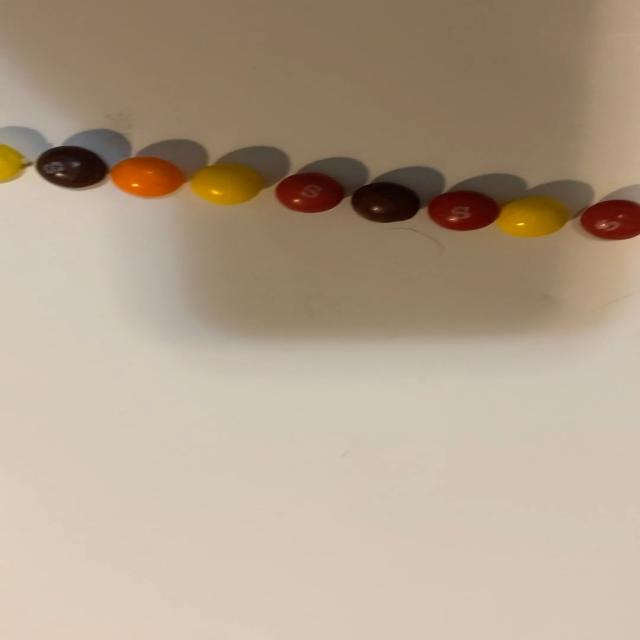smartie: (34, 146, 106, 188), (109, 156, 184, 196), (497, 196, 570, 237), (428, 190, 500, 230), (190, 164, 262, 204), (351, 182, 420, 222), (276, 172, 343, 212), (581, 199, 640, 239)
